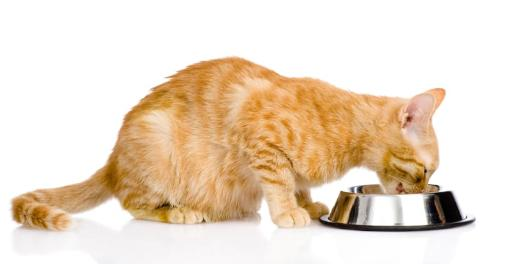cat_eating: (12, 58, 475, 230)
